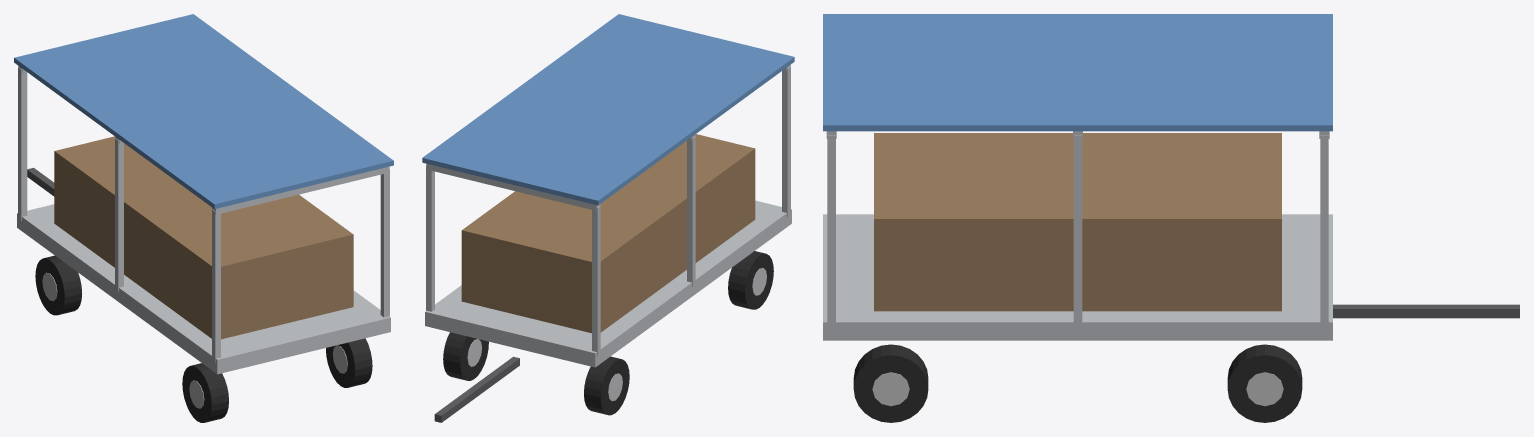
Rendered from baggage_cart.glb.
The picture shows the model from 3 angles, left to right: view 1: azimuth 30°, elevation 25°; view 2: azimuth 150°, elevation 25°; view 3: azimuth 270°, elevation 25°; orthographic projection. The views are drawn at different scales.
Parts seen in each view (by area): view 1: canopy, bags, bed, wheel.001, wheel, wheel.003, post.004, post.001, post, post.002, arch.001, drawbar; view 2: canopy, bags, bed, wheel, wheel.001, wheel.002, post, post.002, post.004, post.005, drawbar, arch; view 3: bags, canopy, bed, wheel.003, wheel.002, drawbar, post.003, post.001, post.005, hub.002, hub.003.
Boxes of the visible parts, bbox=[...] form: canopy: bbox=[14, 14, 393, 209]; bags: bbox=[54, 136, 353, 339]; bed: bbox=[17, 204, 390, 374]; wheel.001: bbox=[182, 363, 228, 422]; wheel: bbox=[35, 255, 81, 315]; wheel.003: bbox=[326, 338, 372, 387]; post.004: bbox=[18, 67, 27, 221]; post.001: bbox=[380, 169, 389, 317]; post: bbox=[212, 209, 220, 362]; post.002: bbox=[115, 138, 123, 291]; arch.001: bbox=[212, 166, 389, 214]; drawbar: bbox=[27, 167, 54, 196]; canopy: bbox=[422, 14, 794, 205]; bags: bbox=[461, 134, 755, 333]; bed: bbox=[425, 200, 791, 367]; wheel: bbox=[584, 356, 629, 415]; wheel.001: bbox=[728, 251, 773, 309]; wheel.002: bbox=[443, 332, 488, 380]; post: bbox=[782, 66, 790, 217]; post.002: bbox=[687, 136, 695, 286]; post.004: bbox=[592, 205, 600, 356]; post.005: bbox=[426, 166, 434, 311]; drawbar: bbox=[434, 356, 519, 422]; arch: bbox=[426, 163, 600, 210]; bags: bbox=[874, 133, 1281, 311]; canopy: bbox=[823, 14, 1332, 131]; bed: bbox=[823, 214, 1332, 340]; wheel.003: bbox=[853, 344, 928, 422]; wheel.002: bbox=[1227, 344, 1302, 422]; drawbar: bbox=[1333, 304, 1519, 318]; post.003: bbox=[1073, 135, 1082, 327]; post.001: bbox=[827, 135, 835, 327]; post.005: bbox=[1320, 135, 1328, 327]; hub.002: bbox=[1246, 372, 1283, 406]; hub.003: bbox=[872, 372, 909, 406].
Bounding box in the file's own units: 1.55 × 1.97 × 4.1.
